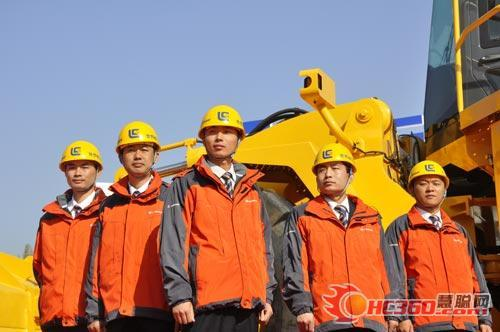helmet: (198, 106, 247, 141), (59, 141, 106, 175), (117, 122, 161, 157), (407, 162, 452, 194), (313, 145, 357, 175)
